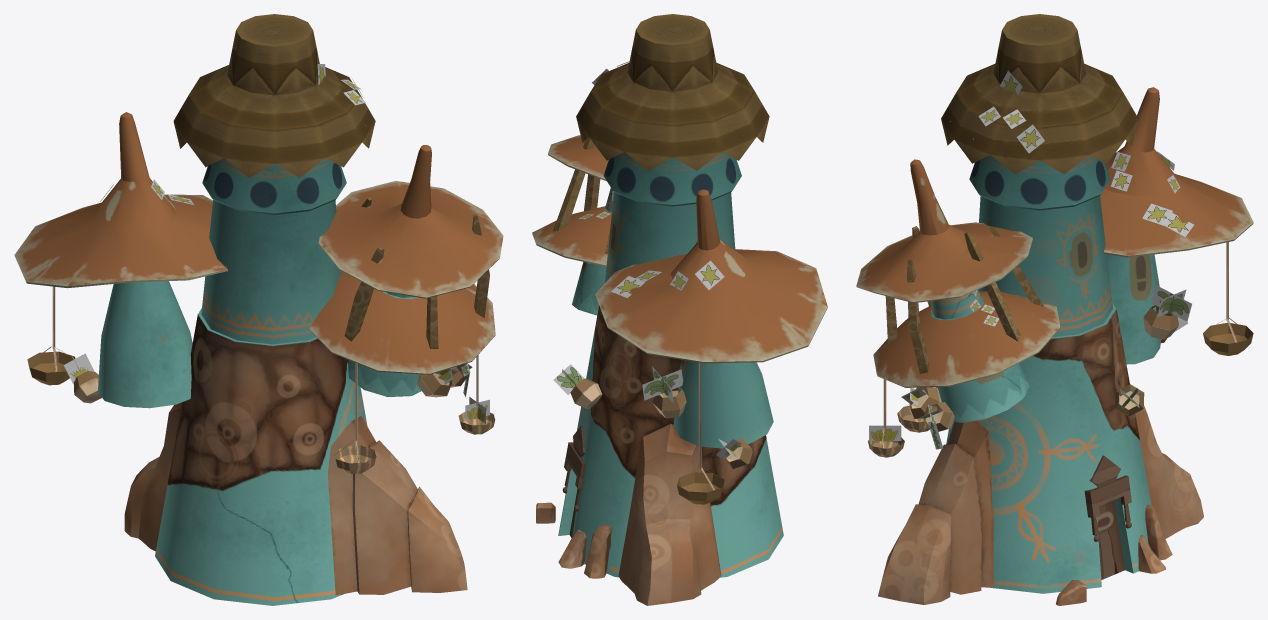
Rendered from casat.obj.
3 views of the same model, side by side, from view 1: azimuth 30°, elevation 25°; view 2: azimuth 150°, elevation 25°; view 3: azimuth 270°, elevation 25° (orthographic). The views are drawn at different scales.
Visible parts, largest first — view 1: Casa, Planos; view 2: Casa, Planos; view 3: Casa, Planos.
Part boxes in pixels (x1,y1,x2,y2): Casa: [14, 14, 503, 605]; Planos: [28, 64, 493, 462]; Casa: [532, 14, 827, 605]; Planos: [553, 61, 741, 490]; Casa: [856, 14, 1253, 605]; Planos: [869, 70, 1237, 449].
Size of the model in its own units: 5.41 by 7.44 by 5.2.
Materials: 2 (2 with a texture image).
